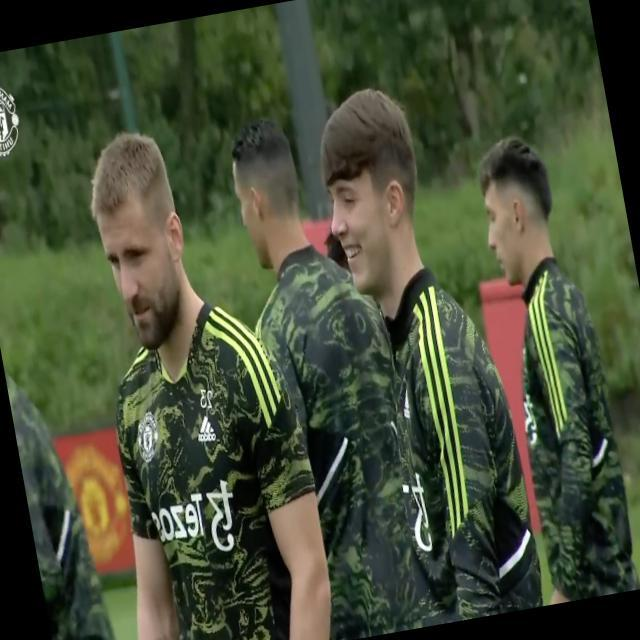Adidas: (192, 411, 218, 446)
